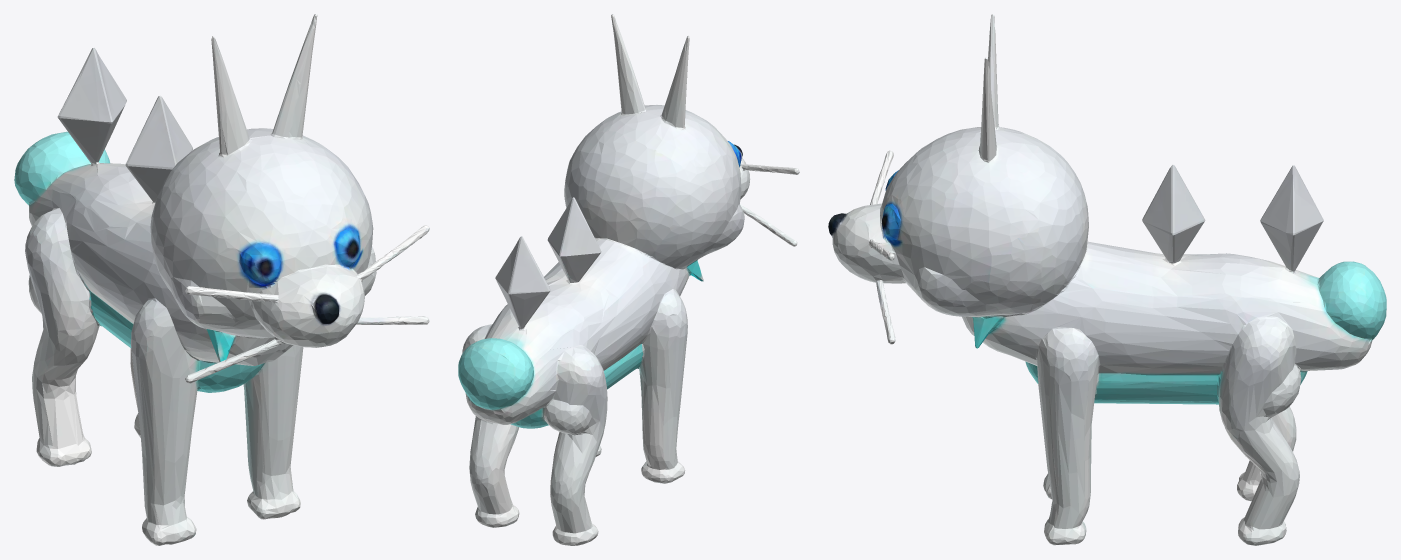
File: creature-031.lod.glb
3 views of the same model, side by side, from view 1: azimuth 30°, elevation 25°; view 2: azimuth 150°, elevation 25°; view 3: azimuth 270°, elevation 25° (orthographic). The views are drawn at different scales.
Parts seen in each view (by area): view 1: tmpcvkq_apo.ply; view 2: tmpcvkq_apo.ply; view 3: tmpcvkq_apo.ply.
Boxes of the visible parts, left/top/right/bottom form: tmpcvkq_apo.ply: left=14, top=14, right=429, bottom=545; tmpcvkq_apo.ply: left=458, top=14, right=799, bottom=545; tmpcvkq_apo.ply: left=828, top=14, right=1386, bottom=545.
Size of the model in its own units: 0.9154 by 1.91 by 1.99.
1 material, 1 textured.
